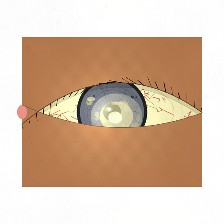corneal_ulcer: (89, 95, 144, 138)
